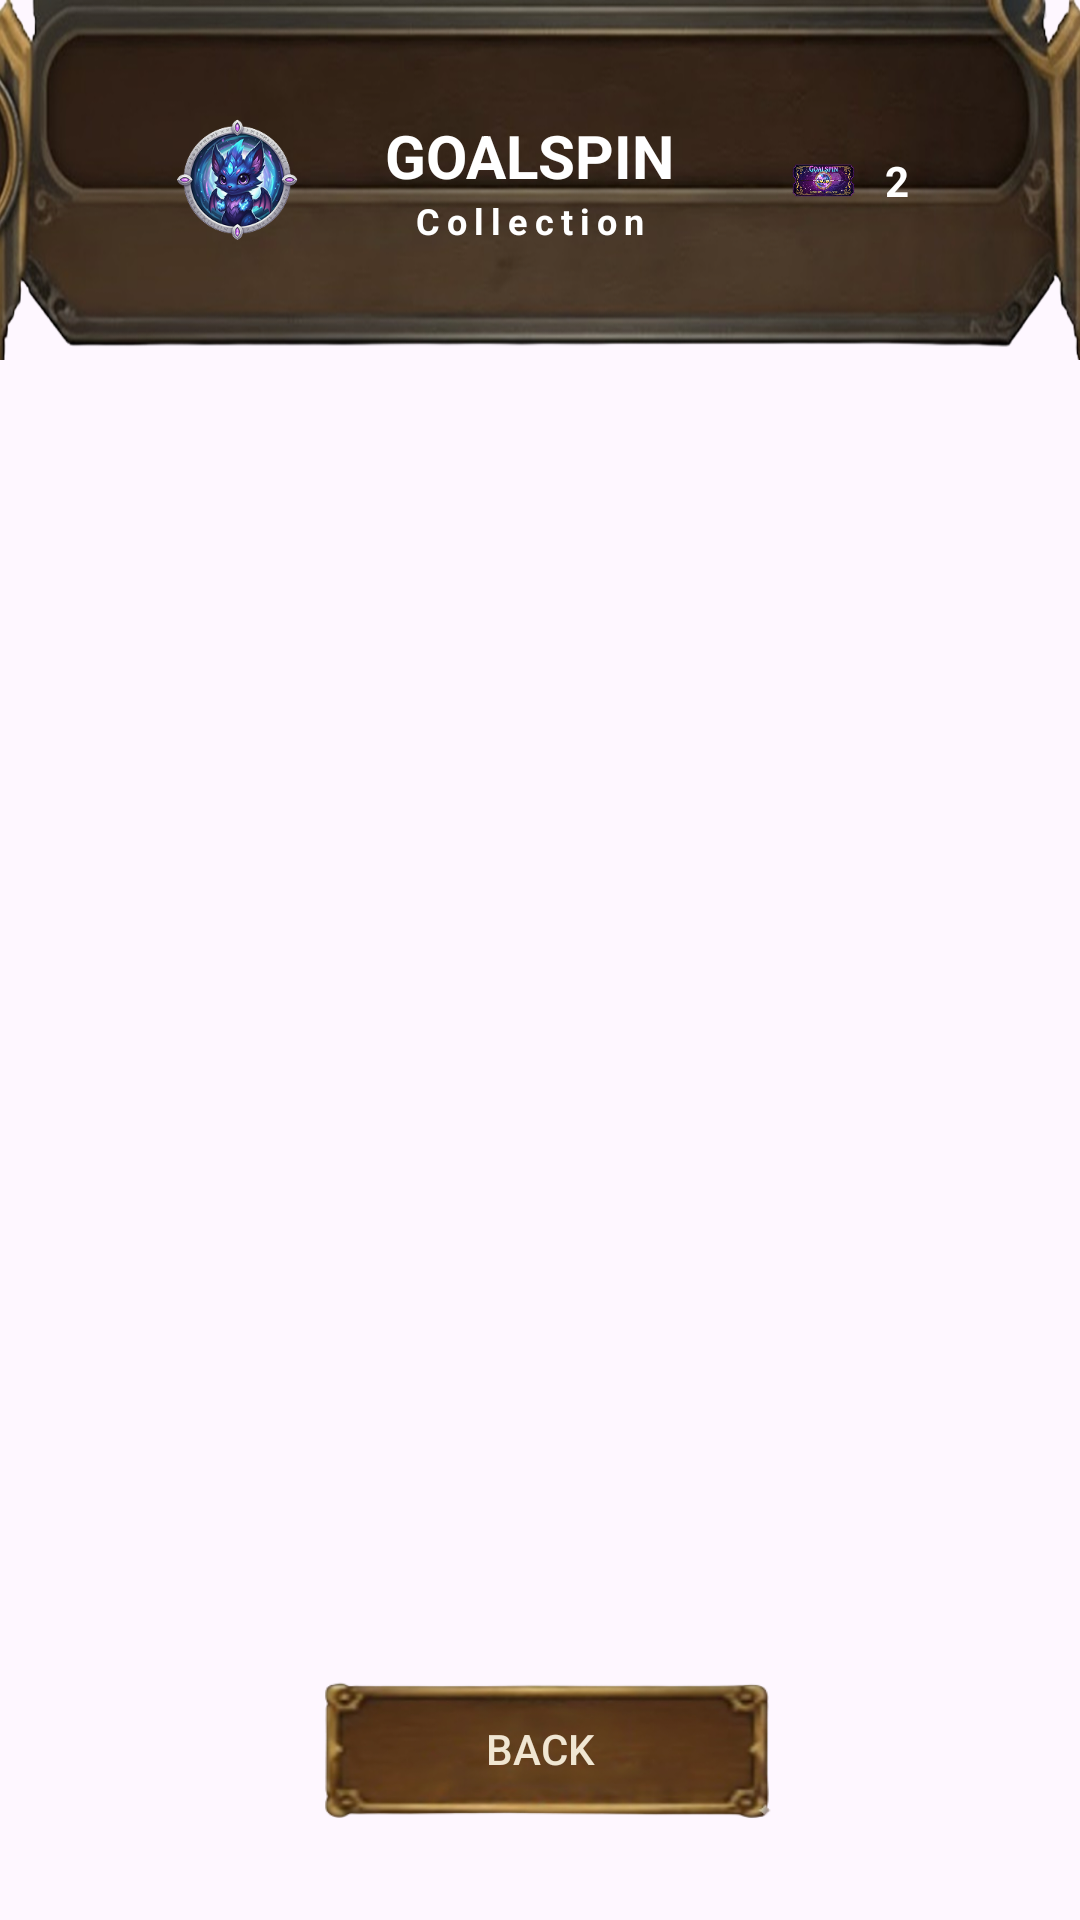

Icon bounding boxes for this 1080x1920 phone screenshot, format BBox(x1, y1, x2, y2):
proflie: BBox(165, 120, 309, 252)
ticket: BBox(786, 165, 861, 197)
